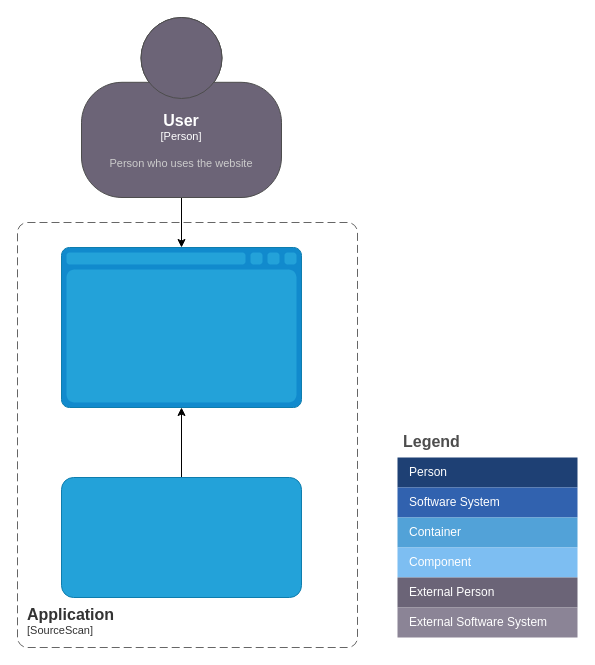
The diagram is 595 pixels wide and 665 high, and some of its shapes have lost their labels. The centre of each missing label's shape, as x and y in pixels:
"Scanner [Container: Python] Scanner generates Markdown file with stored data" goes at point 181,537.
"Website [Container: Markdown, GitHub Pages]" goes at point 181,327.
